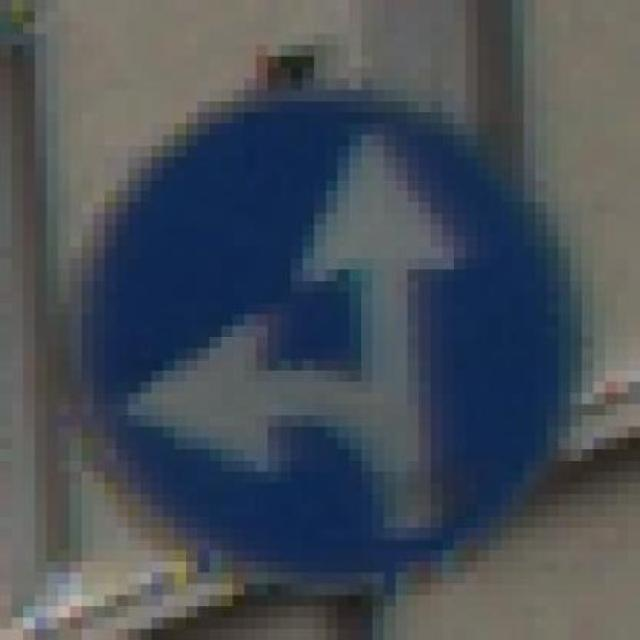Go straight or turn left: (58, 68, 605, 595)
